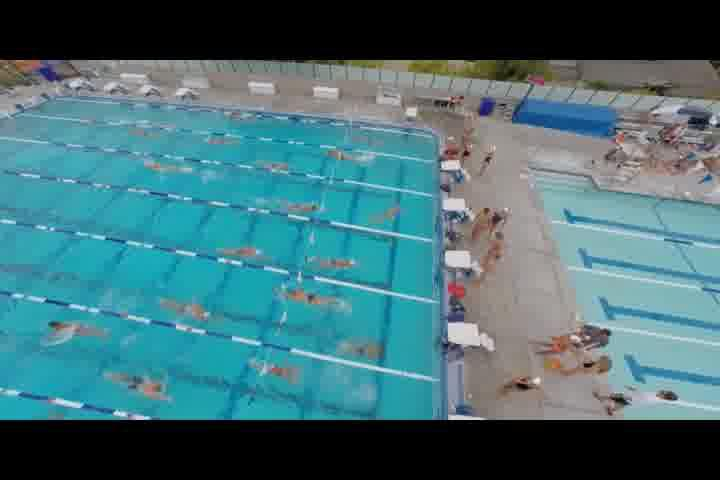swimmer: (114, 370, 168, 402), (49, 318, 106, 338), (277, 287, 329, 306)
